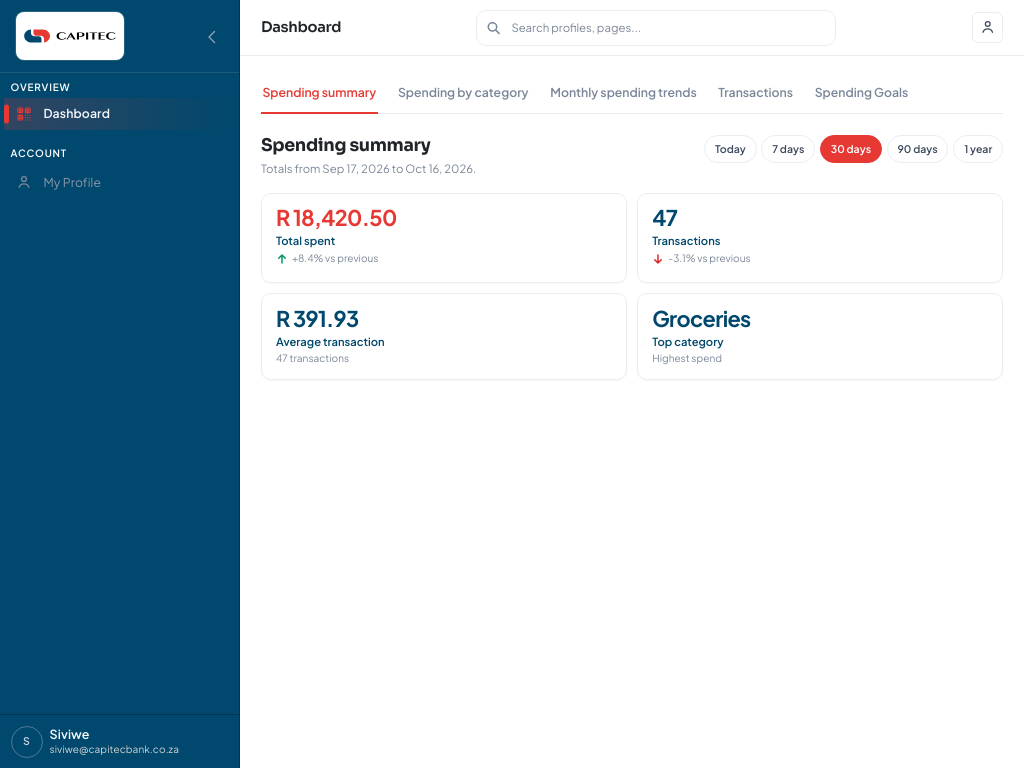
Test case: dashboard › shows on track, warning, and over budget together
Click the tab "Spending Goals" at [862, 94], box [813,74,910,114]
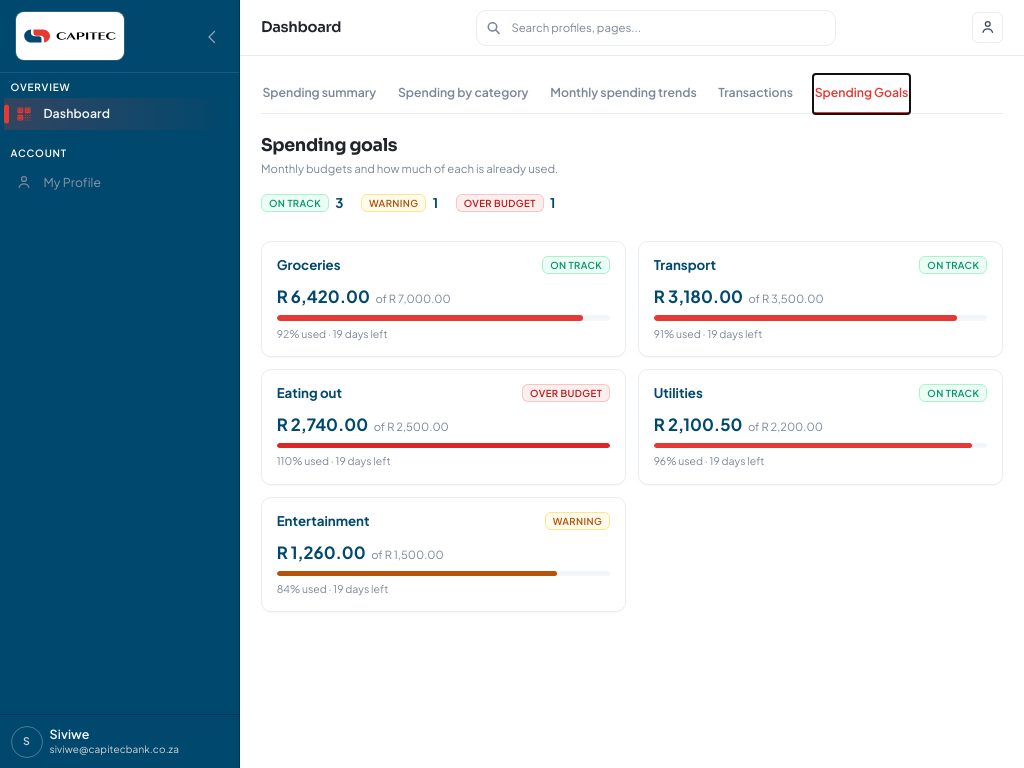
Now the 1st text "On track" is shown, box [261,194,329,212]
Now the 1st text "Warning" is shown, box [361,194,426,212]
Now the 1st text "Over budget" is shown, box [456,194,544,212]
